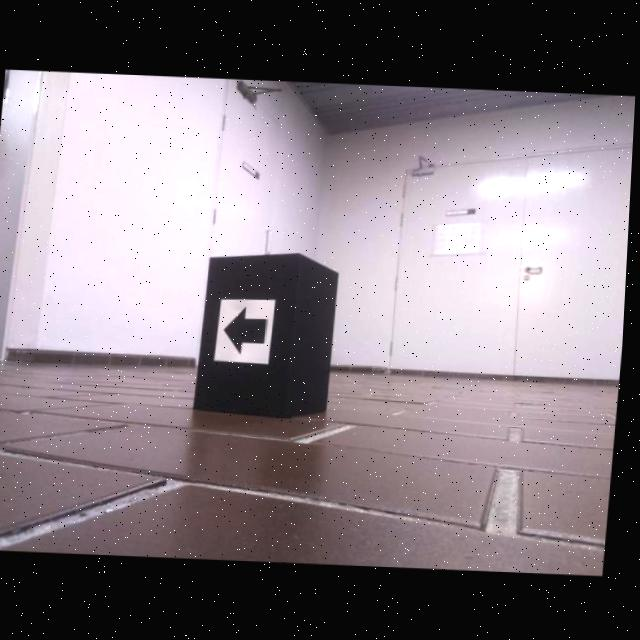LEFT: (227, 305, 270, 354)
